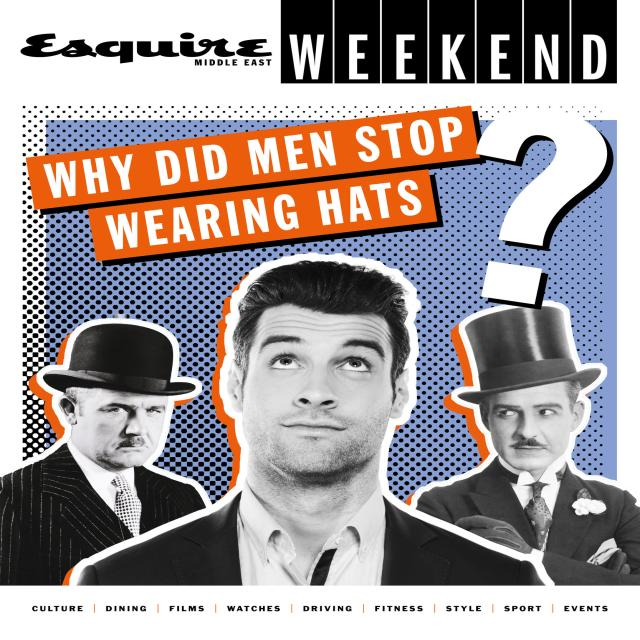hat: (451, 303, 611, 476), (44, 322, 201, 470)
head: (237, 264, 411, 476)
